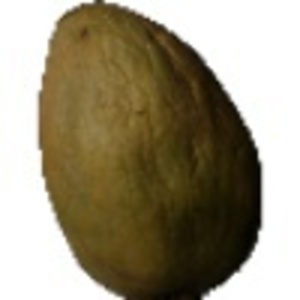mamão: (28, 2, 274, 295)
